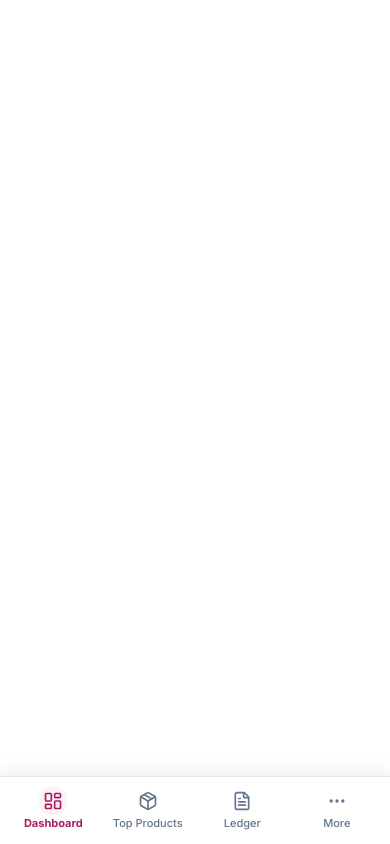
Test: SideBar › Mobile screen (< sm) › closes the More sheet when close button is clicked
What coordinates should you click on to do the following:
click the button "More"
I would click on:
 (337, 809)
Its box is [292, 783, 382, 834].
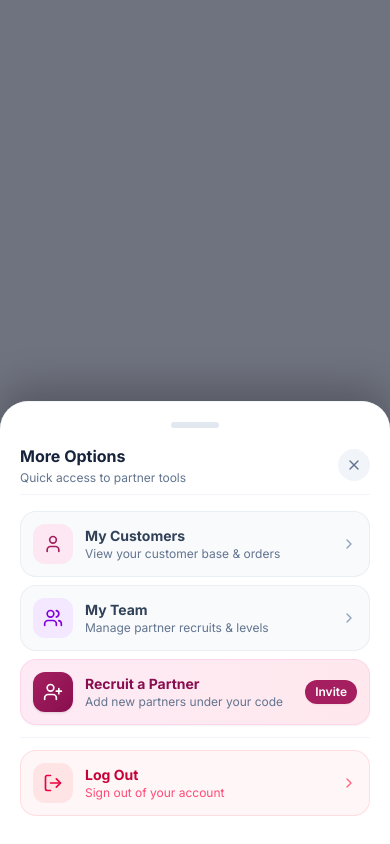
Expected: the heading "More Options" is shown, [20, 446, 126, 466]
What coordinates should you click on to do the following:
click the button named "Close menu"
I would click on:
 (354, 465)
Its box is [338, 449, 370, 481].
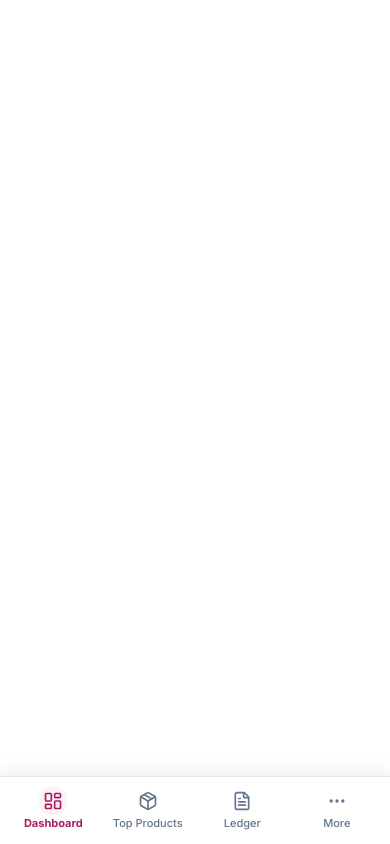
Expected: the heading "More Options" is gone
